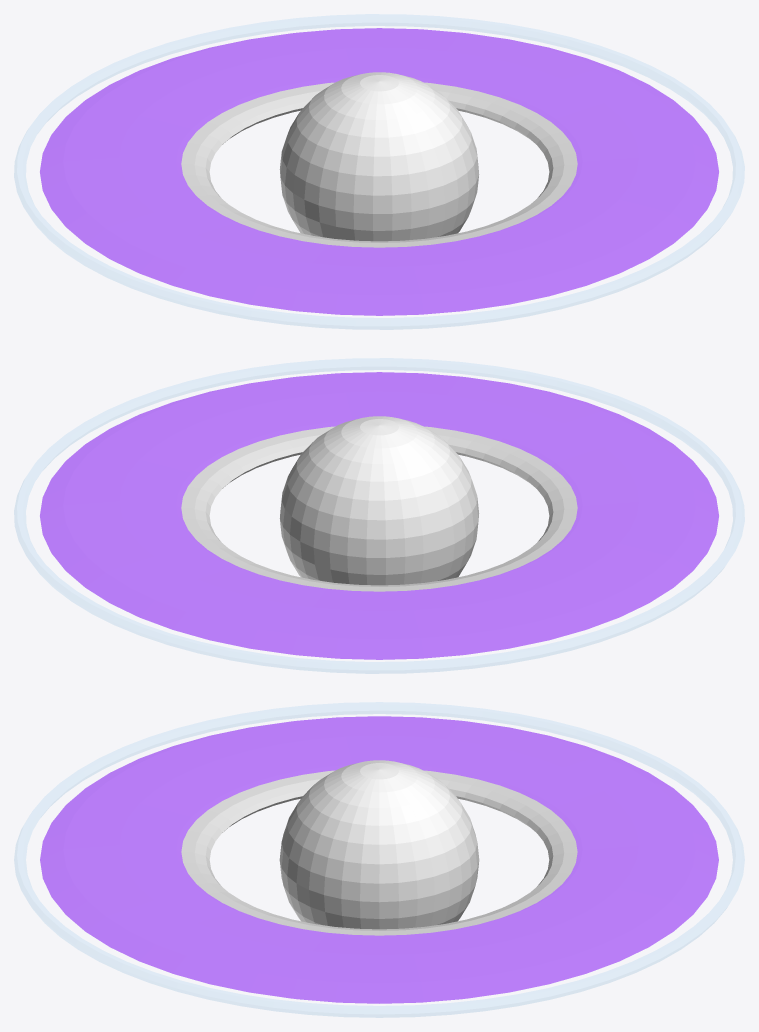
Rendered from black_hole.glb.
3 views of the same model, one above another, from view 1: azimuth 30°, elevation 25°; view 2: azimuth 150°, elevation 25°; view 3: azimuth 270°, elevation 25° (orthographic).
Parts seen in each view (by area): view 1: BlackHole_OuterGlow, BlackHole_EventHorizon, BlackHole_LensingRing, BlackHole_AccretionDisk; view 2: BlackHole_OuterGlow, BlackHole_EventHorizon, BlackHole_LensingRing, BlackHole_AccretionDisk; view 3: BlackHole_OuterGlow, BlackHole_EventHorizon, BlackHole_LensingRing, BlackHole_AccretionDisk.
Boxes of the visible parts, box(x1,y1,x2,y2) form: BlackHole_OuterGlow: box(40, 28, 718, 315); BlackHole_EventHorizon: box(279, 72, 479, 241); BlackHole_LensingRing: box(14, 14, 744, 329); BlackHole_AccretionDisk: box(181, 82, 577, 247); BlackHole_OuterGlow: box(40, 372, 718, 659); BlackHole_EventHorizon: box(279, 416, 479, 585); BlackHole_LensingRing: box(14, 358, 744, 673); BlackHole_AccretionDisk: box(181, 426, 577, 591); BlackHole_OuterGlow: box(40, 716, 718, 1003); BlackHole_EventHorizon: box(279, 760, 479, 929); BlackHole_LensingRing: box(14, 702, 744, 1017); BlackHole_AccretionDisk: box(181, 770, 577, 935).
Bounding box in the file's own units: 3.66 × 1 × 3.66.
